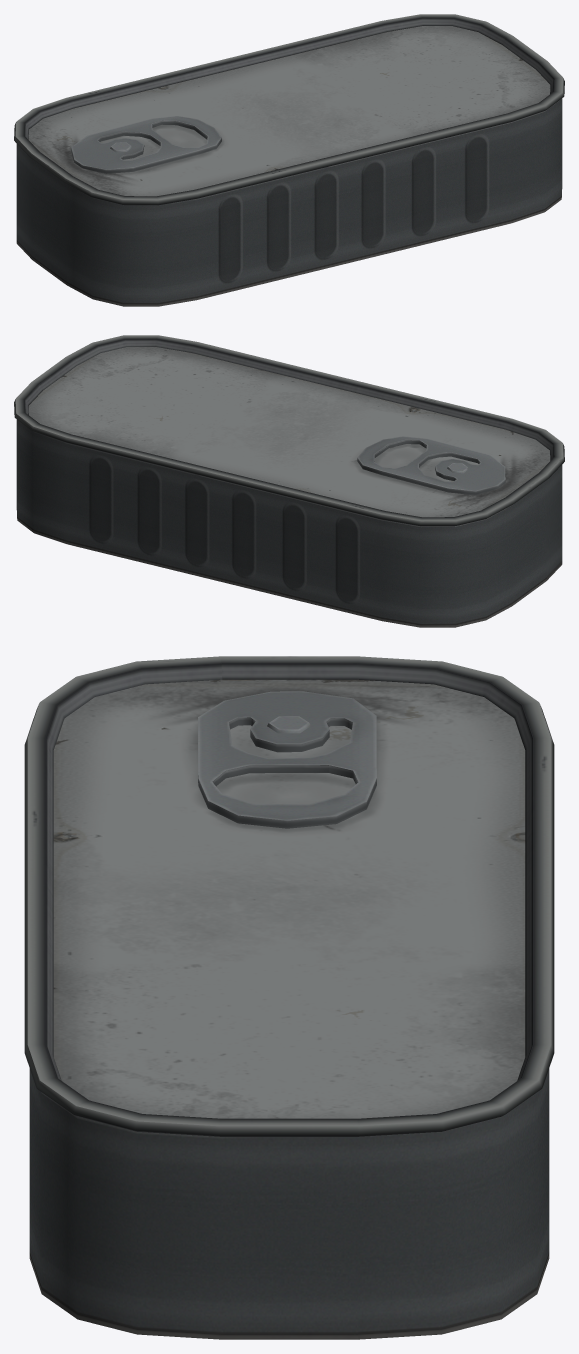
The model's file is Small_Can_Neutral_DAE.DAE.
3 views of the same model, one above another, from view 1: azimuth 30°, elevation 25°; view 2: azimuth 150°, elevation 25°; view 3: azimuth 270°, elevation 25° (orthographic). The views are drawn at different scales.
Parts seen in each view (by area): view 1: Can_Neutral; view 2: Can_Neutral; view 3: Can_Neutral.
Boxes of the visible parts, x1,y1,x2,y2 form: Can_Neutral: [14, 14, 564, 306]; Can_Neutral: [14, 335, 564, 627]; Can_Neutral: [24, 656, 554, 1339].
Bounding box in the file's own units: 114 × 24.61 × 54.02.
